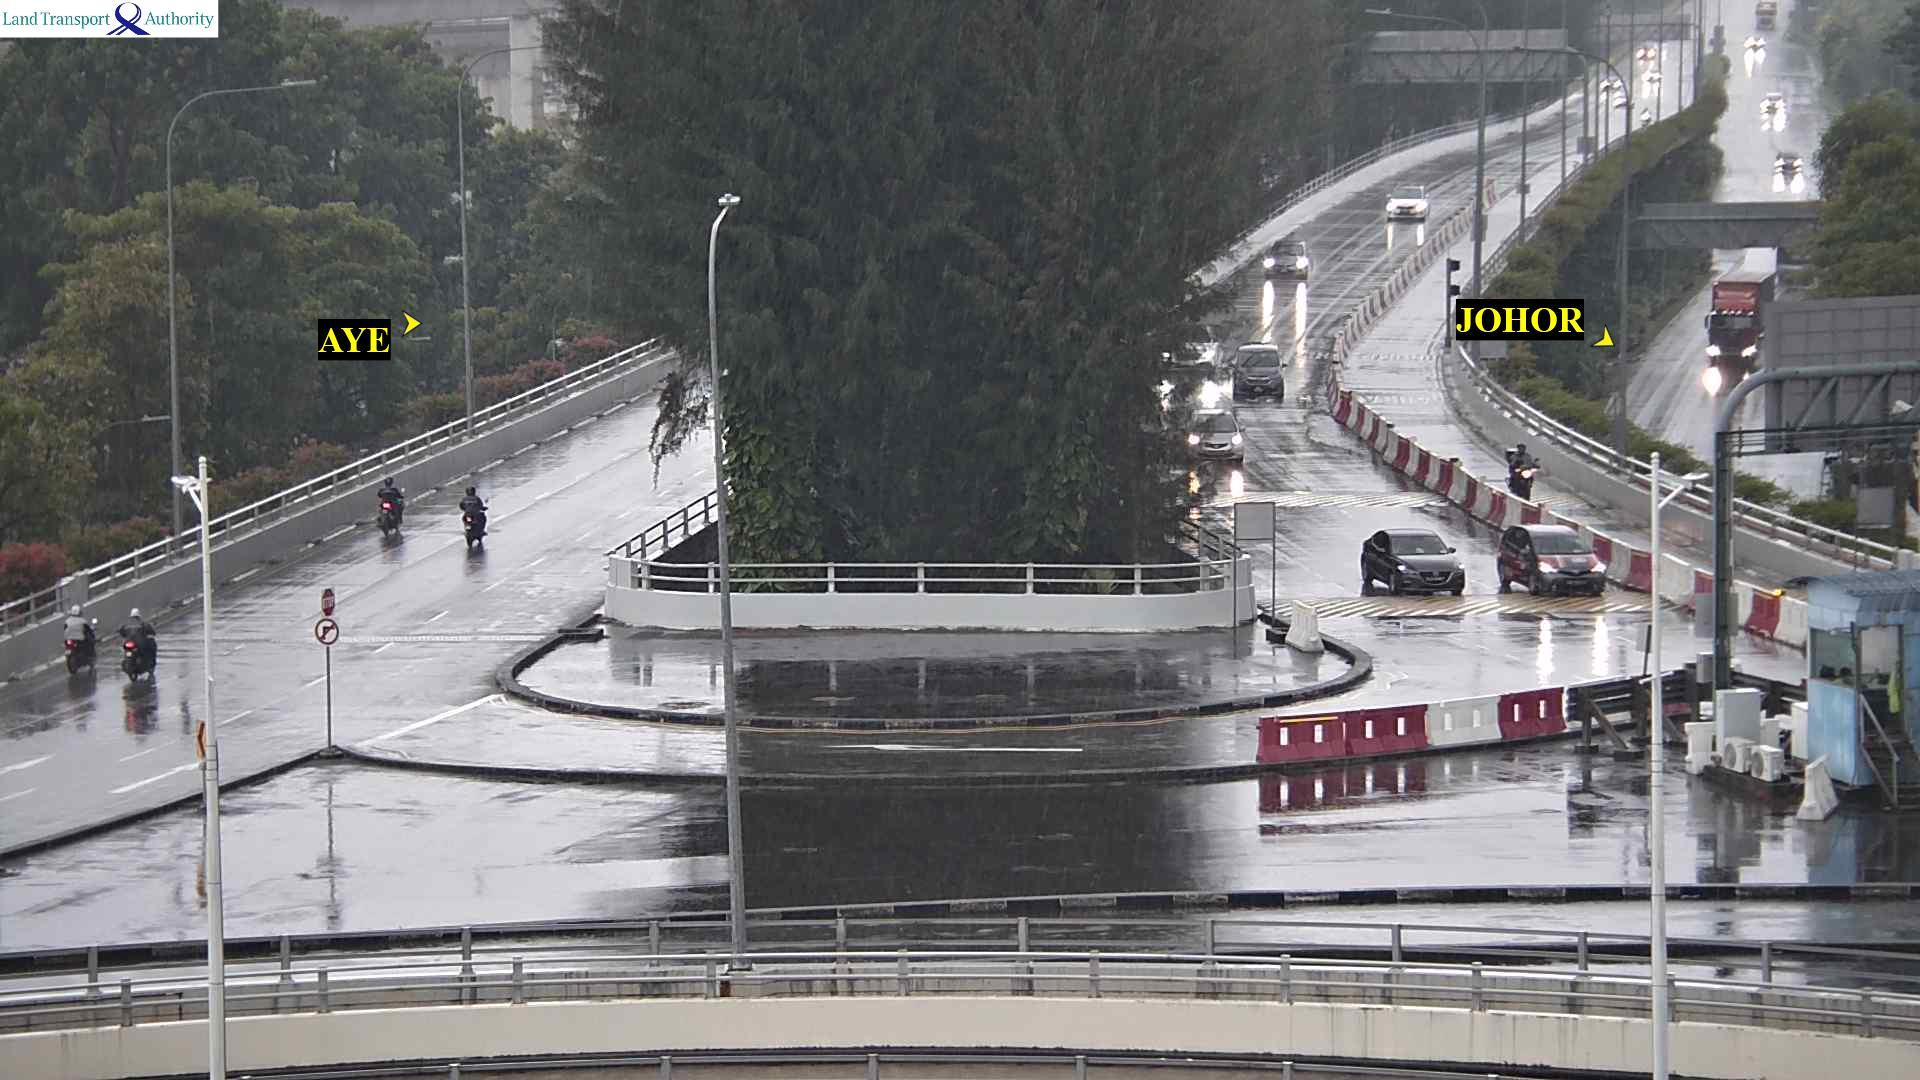vehicle-secondlink-johor: (1499, 520, 1604, 592), (1361, 526, 1464, 599), (1180, 409, 1247, 462), (1232, 344, 1284, 396), (1265, 237, 1311, 277), (1387, 181, 1429, 222), (1505, 444, 1539, 495)
vehicle-secondlink-singapore: (62, 601, 100, 675), (113, 621, 162, 673), (463, 485, 488, 547), (378, 481, 410, 525)
